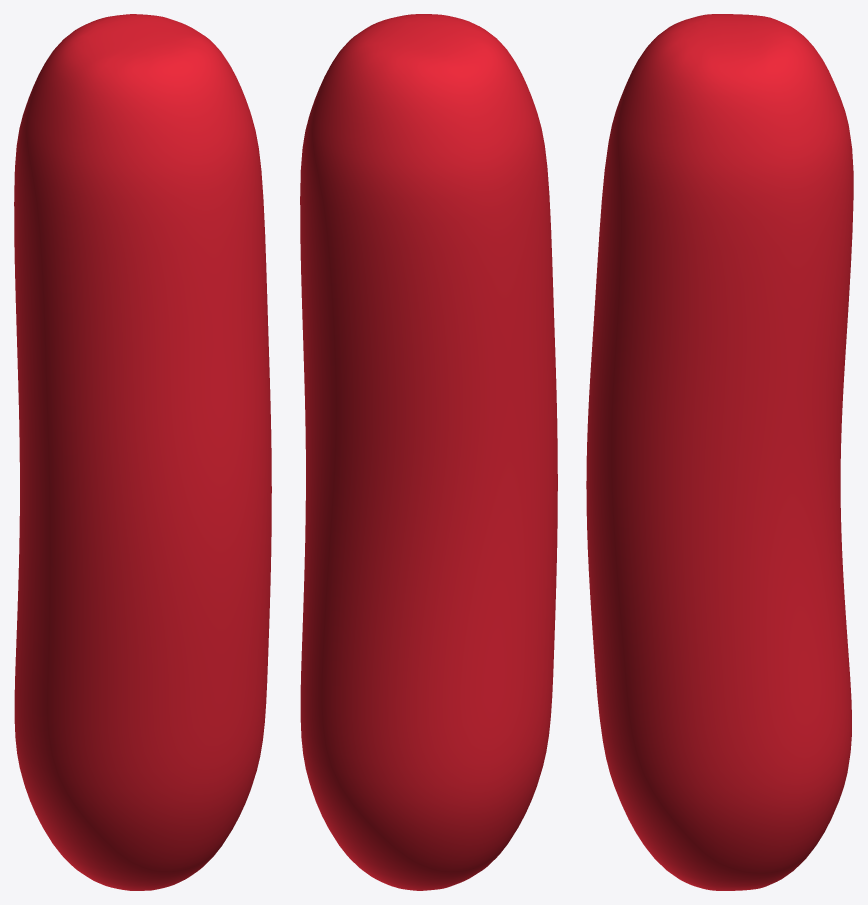
The model's file is Cucumber.fbx.
3 views of the same model, side by side, from view 1: azimuth 30°, elevation 25°; view 2: azimuth 150°, elevation 25°; view 3: azimuth 270°, elevation 25° (orthographic).
Visible parts, largest first — view 1: Cylinder.003; view 2: Cylinder.003; view 3: Cylinder.003.
Boxes of the visible parts, bbox=[...] form: Cylinder.003: bbox=[14, 14, 271, 890]; Cylinder.003: bbox=[300, 14, 557, 890]; Cylinder.003: bbox=[586, 14, 853, 890].
Size of the model in its own units: 227 by 849 by 243.
